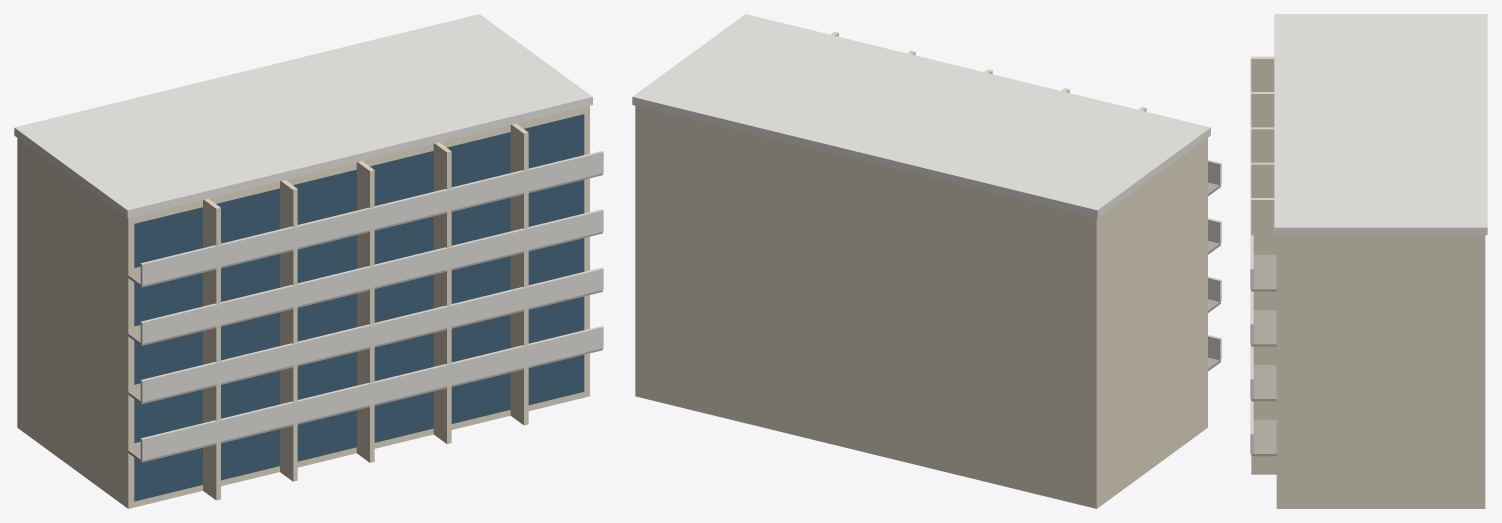
File: Apartment.fbx
The picture shows the model from 3 angles, left to right: view 1: azimuth 30°, elevation 25°; view 2: azimuth 150°, elevation 25°; view 3: azimuth 270°, elevation 25°; orthographic projection. The views are drawn at different scales.
Visible parts, largest first — view 1: Apartment; view 2: Apartment; view 3: Apartment.
Part boxes in pixels (<box>): Apartment: <box>14,14,603,508</box>; Apartment: <box>632,14,1221,508</box>; Apartment: <box>1250,14,1487,508</box>.
Bounding box in the file's own units: 24.2 × 14.9 × 11.35.
